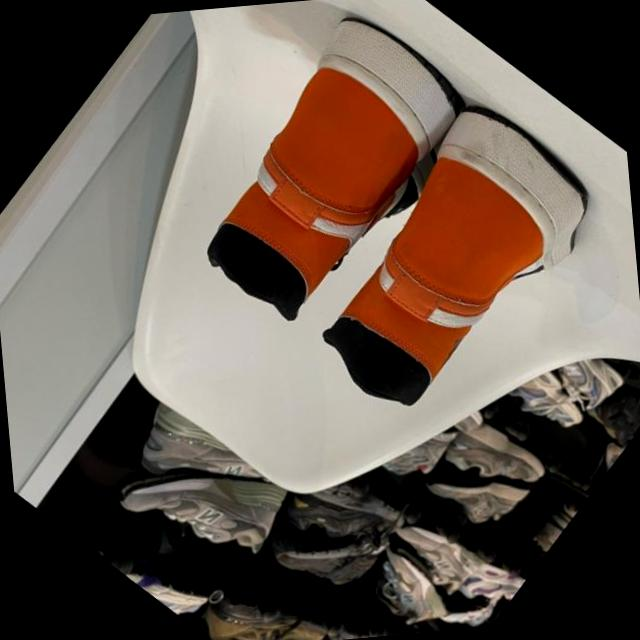nike_fake_jordan: (272, 84, 635, 457), (153, 0, 508, 357)
